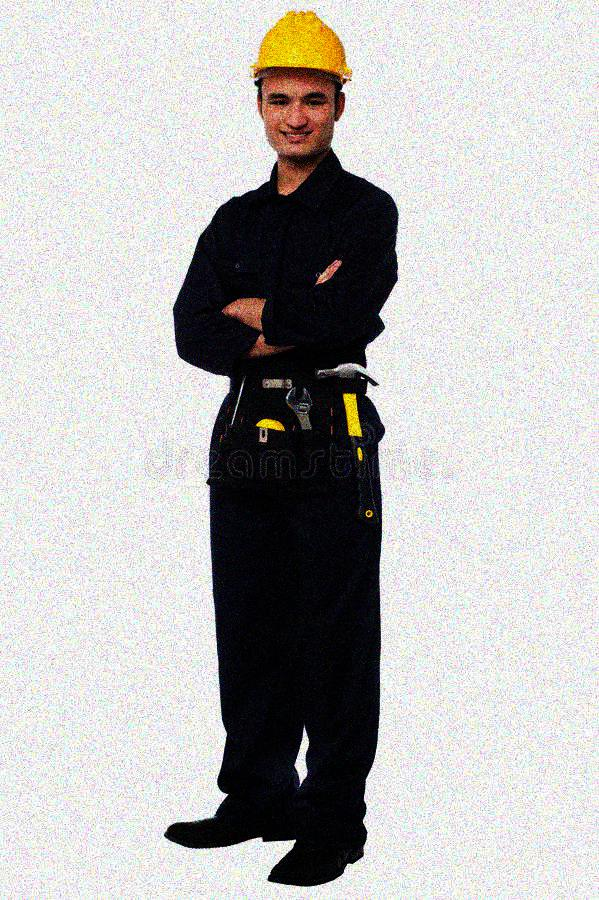helmet: (248, 5, 349, 156)
